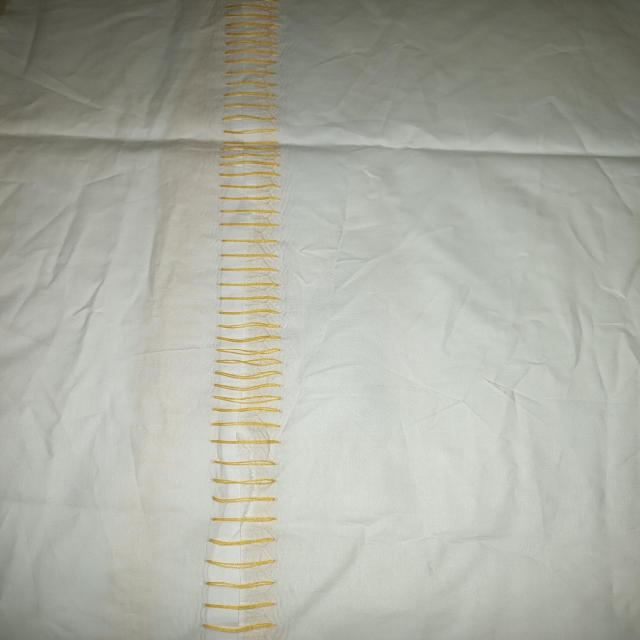gray stitch: (193, 0, 286, 639)
